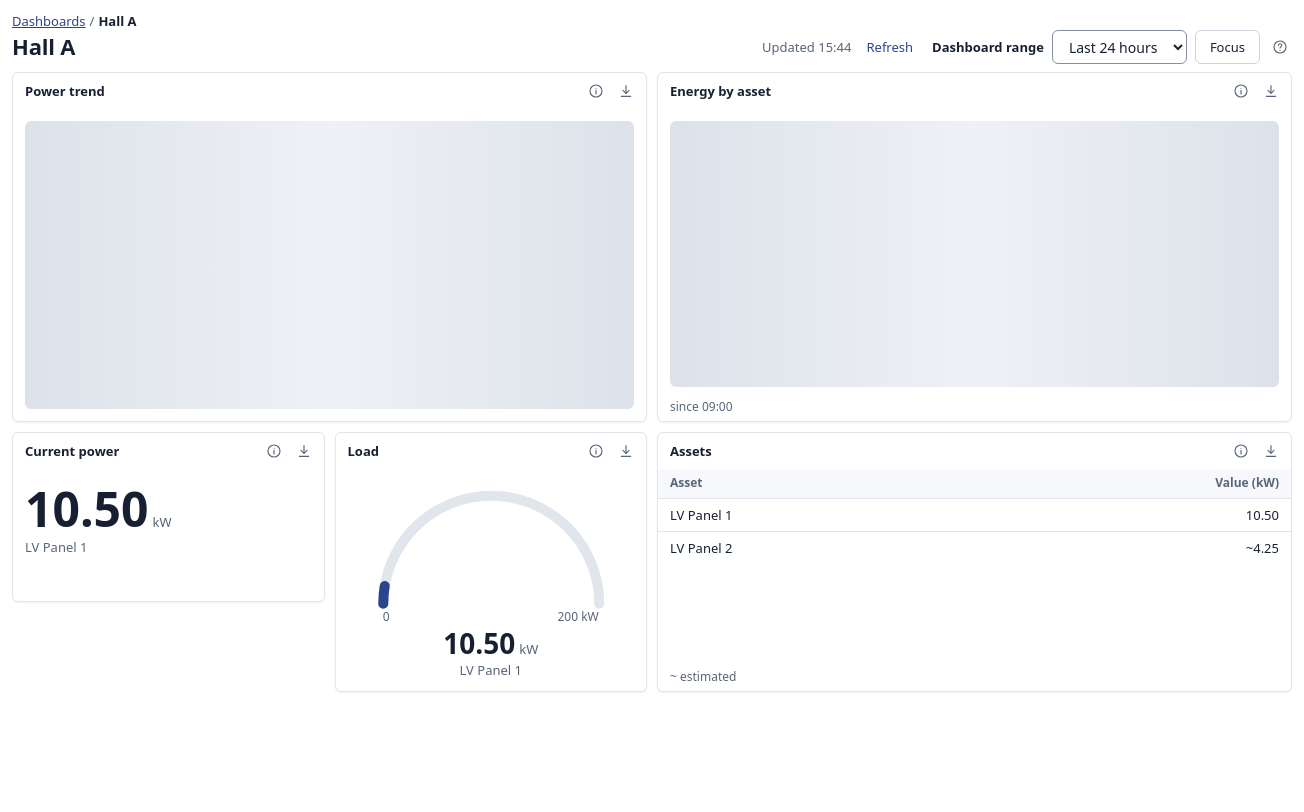
Test: DashboardPage (view) › changes the range for widgets that inherit it, keeps overrides, and saves nothing
The image size is (1304, 812).
Select "Last 7 days" in the dropdown labelled "Dashboard range" at (1119, 47), box [1052, 30, 1187, 64]
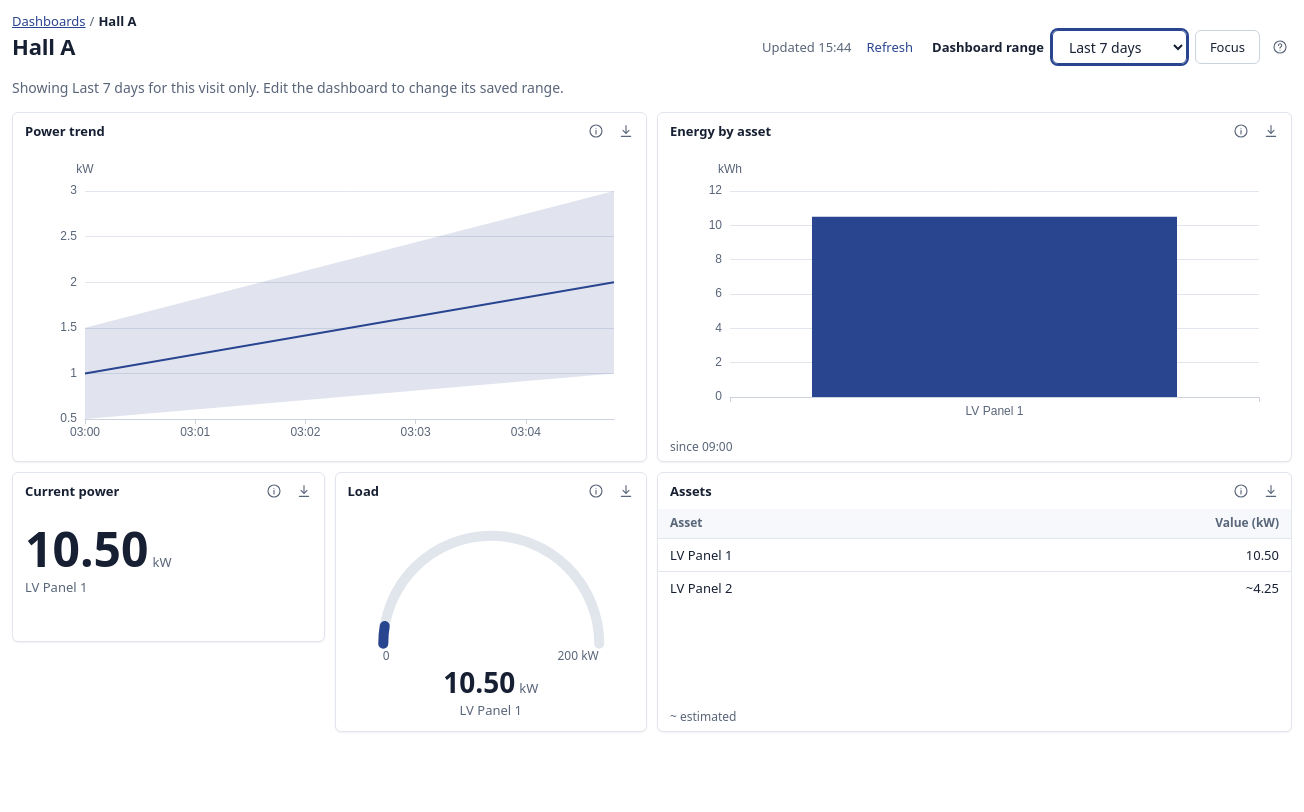
Expected: the text "this visit only" is shown, [145, 78, 564, 97]
